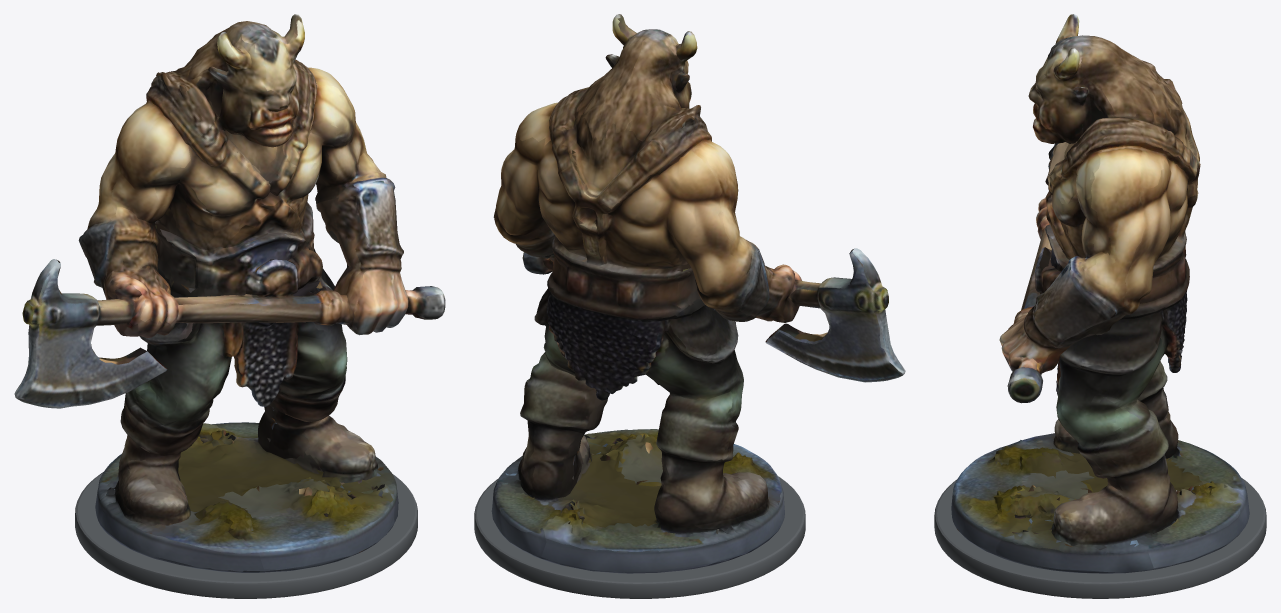
The model's file is ogre.glb.
3 views of the same model, side by side, from view 1: azimuth 30°, elevation 25°; view 2: azimuth 150°, elevation 25°; view 3: azimuth 270°, elevation 25° (orthographic). The views are drawn at different scales.
Parts seen in each view (by area): view 1: ogre_body, ogre_round_base; view 2: ogre_body, ogre_round_base; view 3: ogre_body, ogre_round_base.
Boxes of the visible parts, bbox=[...] form: ogre_body: bbox=[14, 14, 445, 572]; ogre_round_base: bbox=[75, 472, 417, 598]; ogre_body: bbox=[491, 14, 905, 573]; ogre_round_base: bbox=[474, 476, 805, 598]; ogre_body: bbox=[951, 14, 1249, 573]; ogre_round_base: bbox=[934, 478, 1266, 598].
Size of the model in its own units: 1.37 by 1.65 by 1.
Materials: 2 (1 with a texture image).
